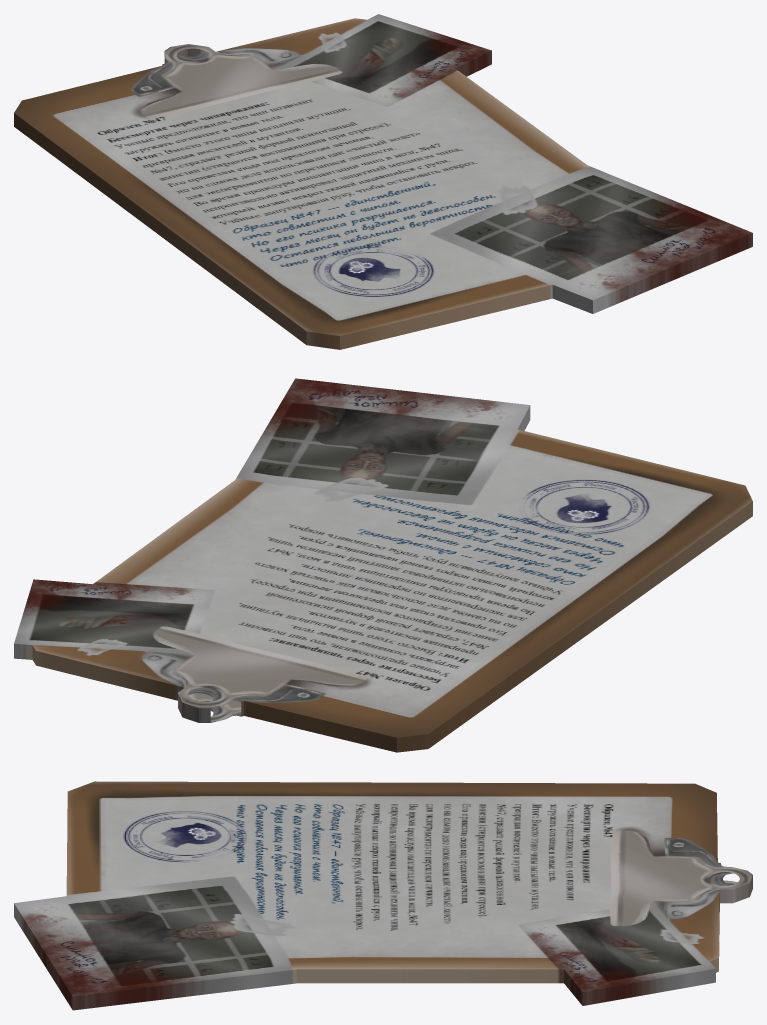
The model's file is archive47.fbx.
3 renders of one model, top to bottom at view 1: azimuth 30°, elevation 25°; view 2: azimuth 150°, elevation 25°; view 3: azimuth 270°, elevation 25°, orthographic. The views are drawn at different scales.
Visible parts, largest first — view 1: archive47; view 2: archive47; view 3: archive47.
Part boxes in pixels (x1,y1,x2,y2): archive47: [14, 14, 752, 349]; archive47: [14, 378, 752, 752]; archive47: [14, 781, 752, 1010].
Size of the model in its own units: 87.76 by 2.66 by 127.
